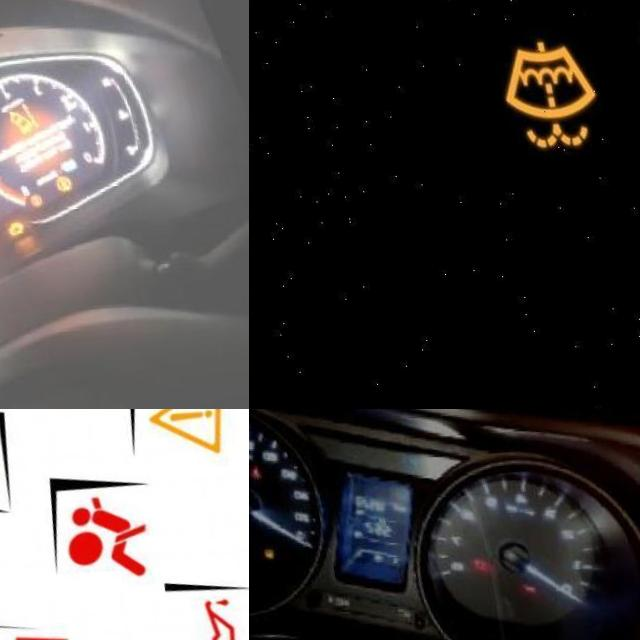Seat Belt: (249, 472, 260, 487)
Washer Fluid: (483, 42, 594, 155)
